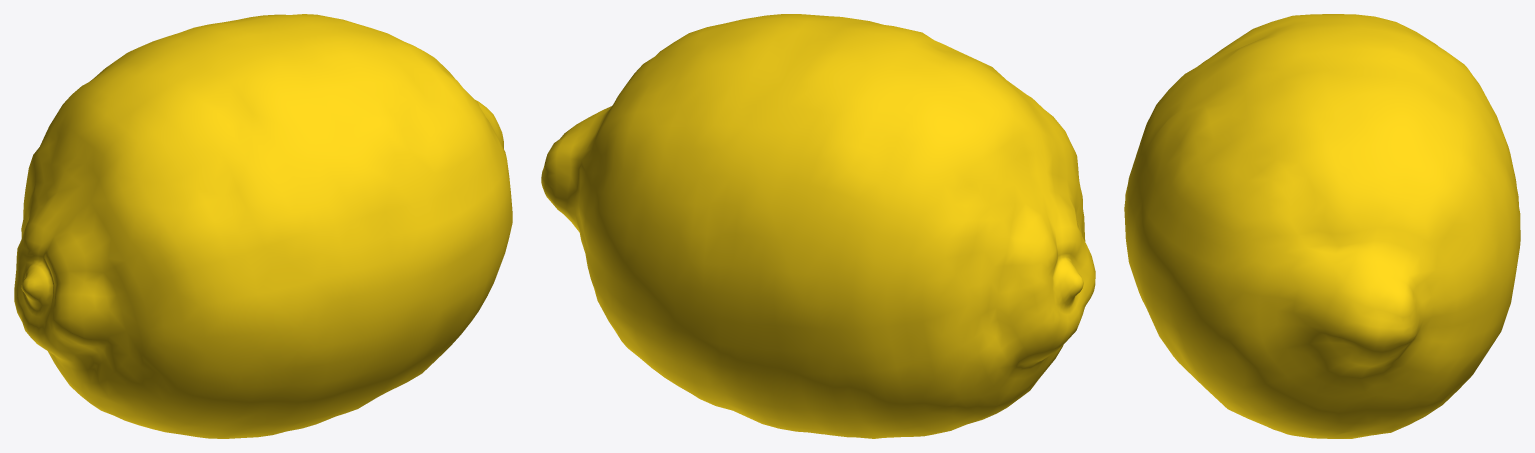
File: citron.glb
3 renders of one model, left to right at view 1: azimuth 30°, elevation 25°; view 2: azimuth 150°, elevation 25°; view 3: azimuth 270°, elevation 25°, orthographic. The views are drawn at different scales.
Parts seen in each view (by area): view 1: lemon; view 2: lemon; view 3: lemon.
Boxes of the visible parts, x1,y1,x2,y2 form: lemon: (14, 14, 512, 438); lemon: (541, 14, 1095, 438); lemon: (1124, 14, 1520, 438).
Bounding box in the file's own units: 2.31 × 1.64 × 1.65.
